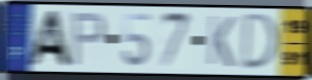5: (120, 12, 152, 68)
7: (161, 10, 193, 71)
A: (23, 9, 74, 69)
D: (240, 12, 281, 73)
K: (206, 14, 238, 70)
P: (69, 11, 108, 68)
